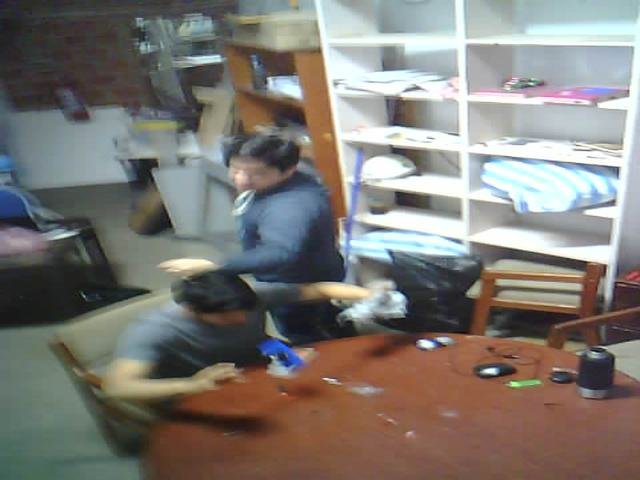person: (62, 259, 408, 473), (162, 103, 370, 276)
